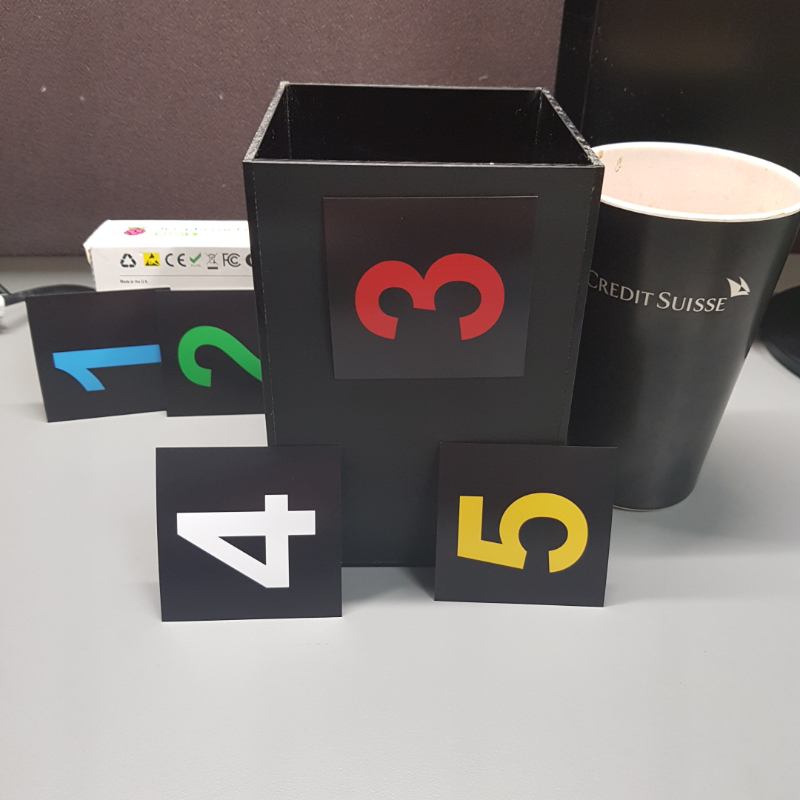Five-10: (444, 453, 599, 599)
Four-9: (166, 454, 337, 612)
Three-8: (341, 211, 517, 372)
